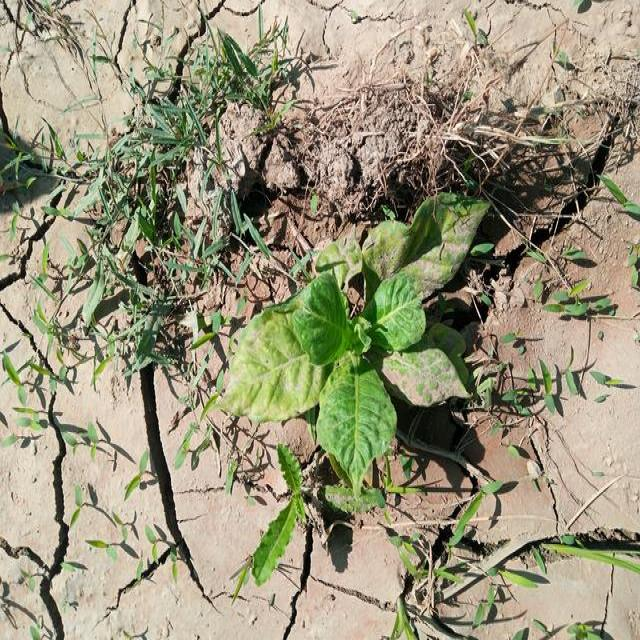crop: (207, 196, 471, 486)
